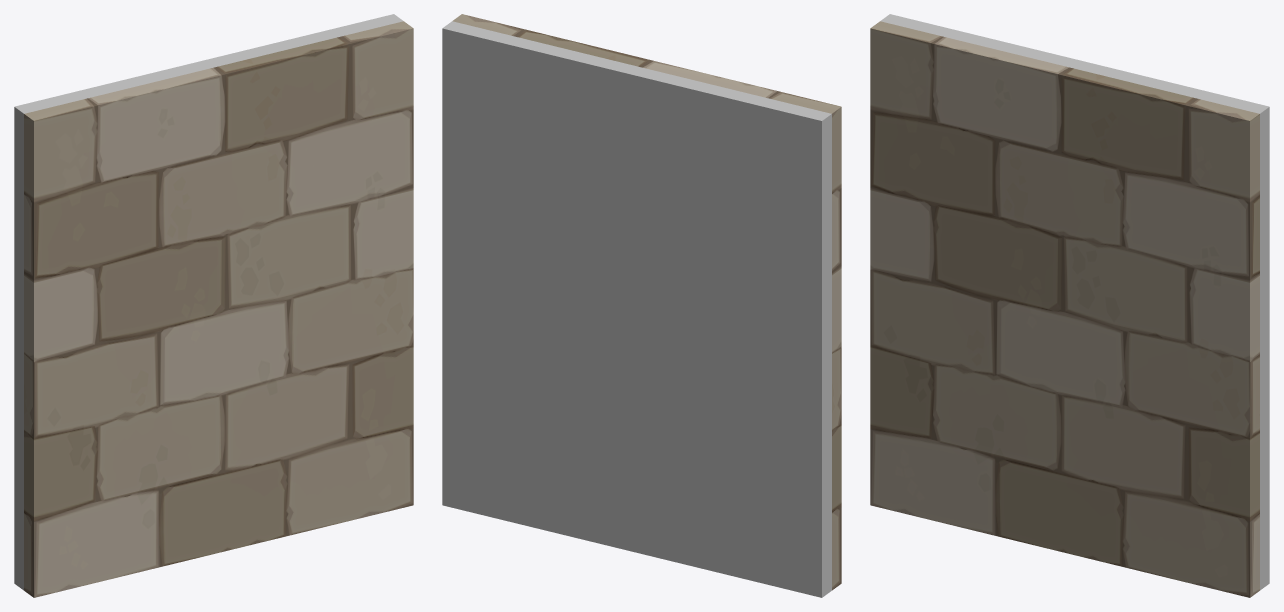
File: SM_Bld_Wall_01.fbx
The picture shows the model from 3 angles, left to right: view 1: azimuth 30°, elevation 25°; view 2: azimuth 150°, elevation 25°; view 3: azimuth 330°, elevation 25°; orthographic projection.
Parts seen in each view (by area): view 1: SM_Bld_Wall_01; view 2: SM_Bld_Wall_01; view 3: SM_Bld_Wall_01.
Boxes of the visible parts, x1,y1,x2,y2 form: SM_Bld_Wall_01: (14, 14, 413, 597); SM_Bld_Wall_01: (442, 14, 841, 597); SM_Bld_Wall_01: (870, 14, 1269, 597).
Size of the model in its own units: 250 by 300 by 22.5.
